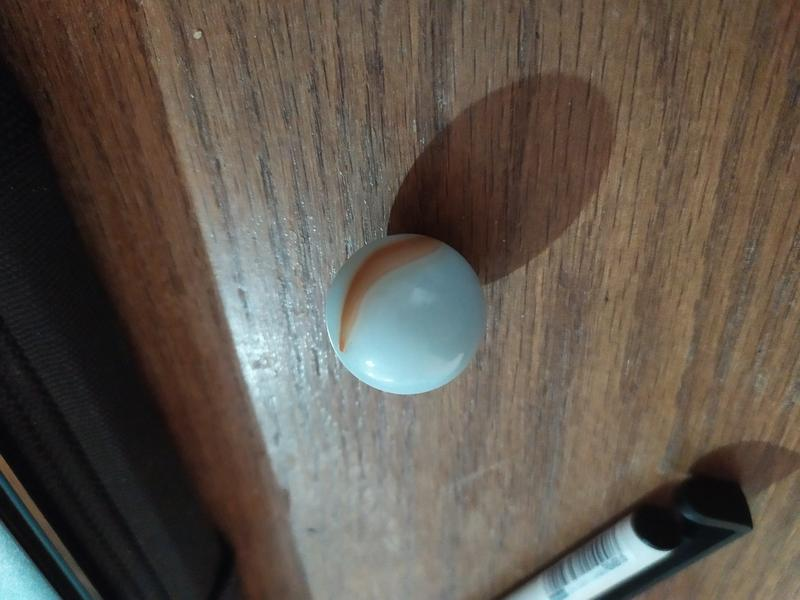Warning: (322, 229, 492, 400)
